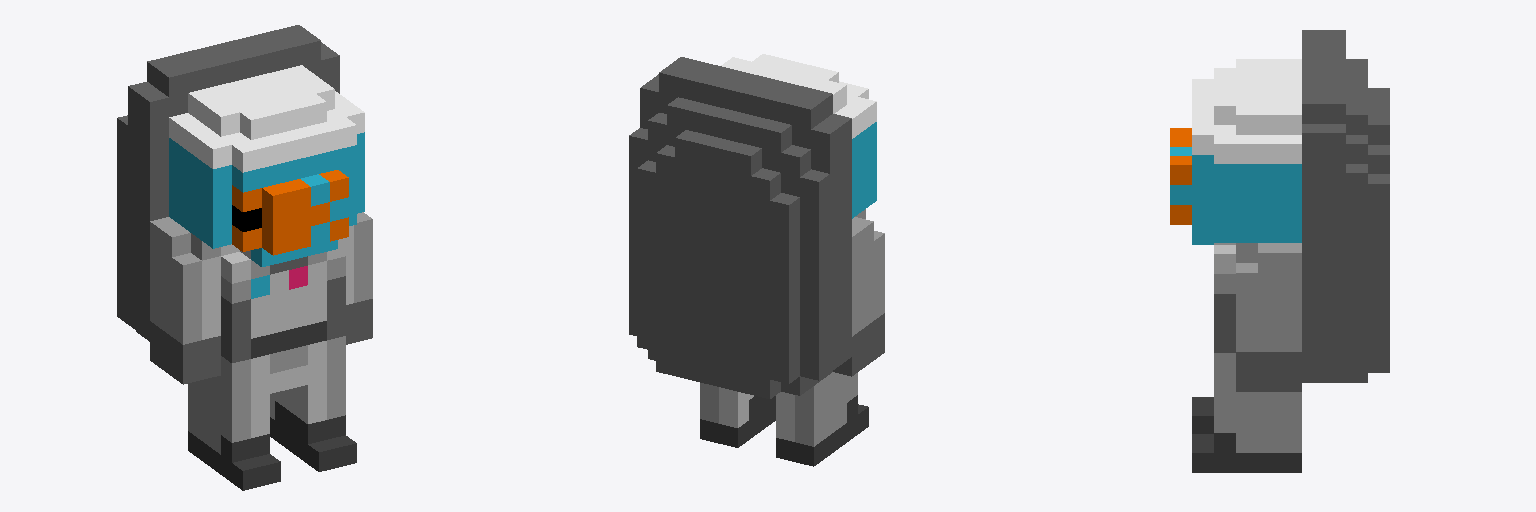
3 views of the same model, side by side, from view 1: azimuth 30°, elevation 25°; view 2: azimuth 150°, elevation 25°; view 3: azimuth 270°, elevation 25° (orthographic).
Parts seen in each view (by area): view 1: object 1; view 2: object 1; view 3: object 1.
Boxes of the visible parts, box(x1,y1,x2,y2) form: object 1: box(117, 25, 372, 490); object 1: box(629, 54, 884, 466); object 1: box(1170, 30, 1389, 472).
Bounding box in the file's own units: 1 × 1.9 × 1.
Materials: 1 (1 with a texture image).